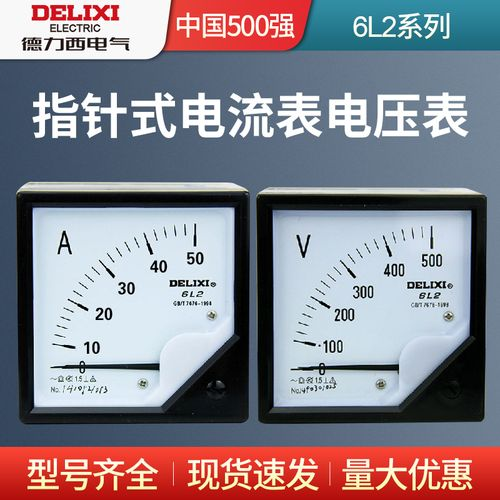pointer: (31, 203, 233, 406), (273, 208, 472, 408)
